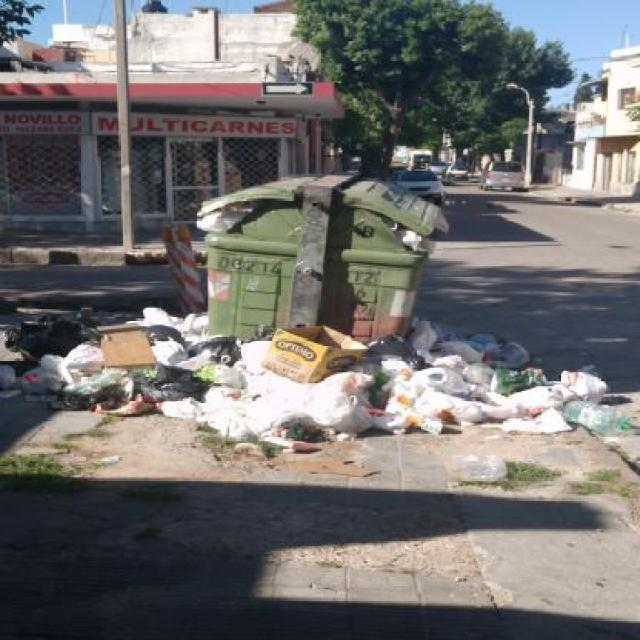garbage: (151, 333, 567, 456), (5, 296, 196, 406)
